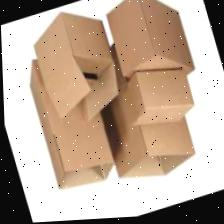cardboard: (2, 0, 224, 224)
